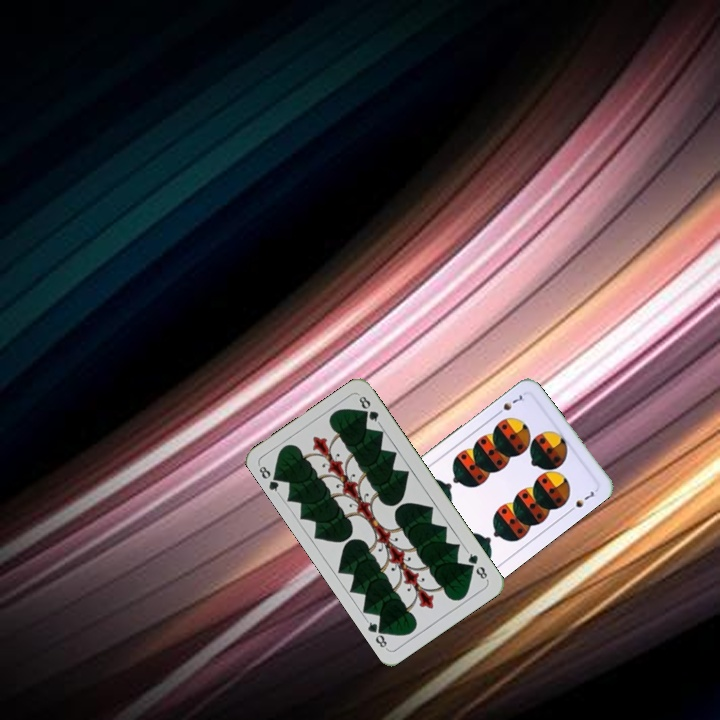G8: (255, 461, 284, 497), (463, 547, 490, 583)
S7: (491, 390, 527, 418)
